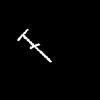double_crochet: (18, 29, 50, 61)
